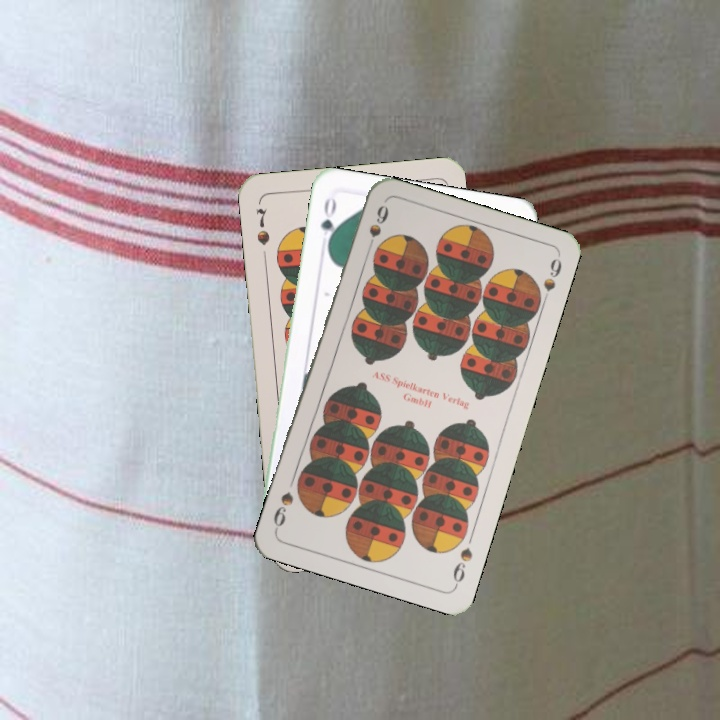GO: (316, 193, 340, 252)
S7: (251, 204, 273, 248)
S9: (361, 201, 391, 258), (448, 543, 475, 589)
